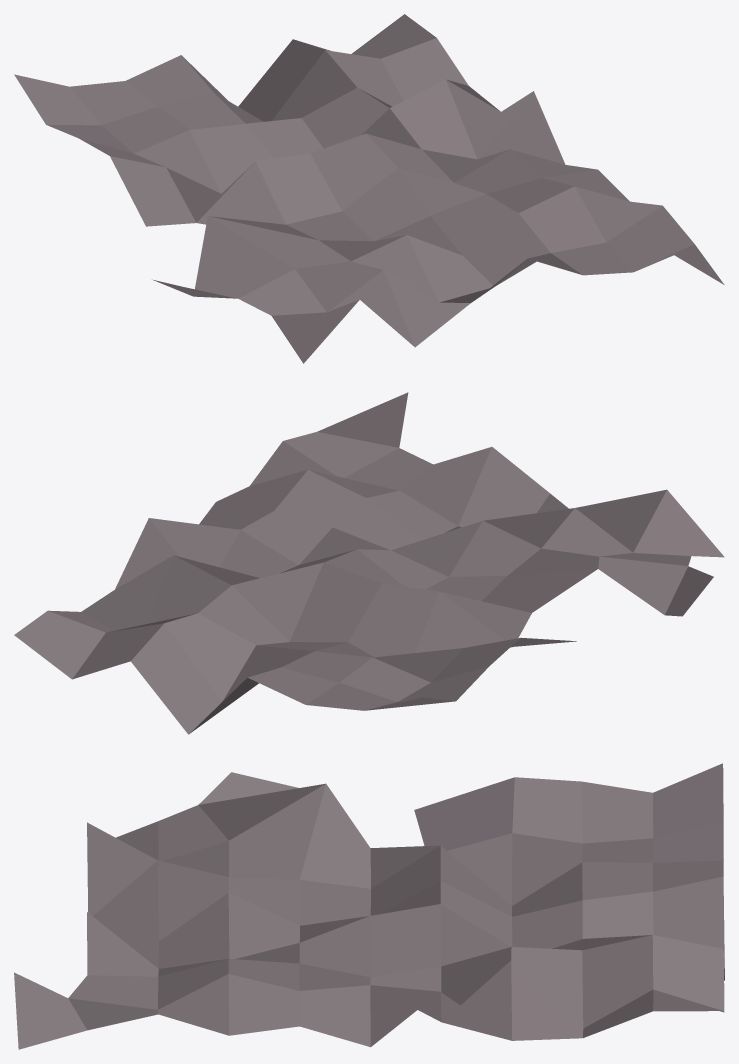
The model's file is Scrap2.fbx.
The picture shows the model from 3 angles, top to bottom: view 1: azimuth 30°, elevation 25°; view 2: azimuth 150°, elevation 25°; view 3: azimuth 270°, elevation 25°; orthographic projection. The views are drawn at different scales.
Visible parts, largest first — view 1: Bake.008; view 2: Bake.008; view 3: Bake.008.
Boxes of the visible parts, x1=… form: Bake.008: x1=14, y1=14, x2=724, y2=363; Bake.008: x1=14, y1=392, x2=724, y2=734; Bake.008: x1=14, y1=763, x2=724, y2=1049.
Size of the model in its own units: 648 by 124 by 813.
2 materials, 1 textured.
